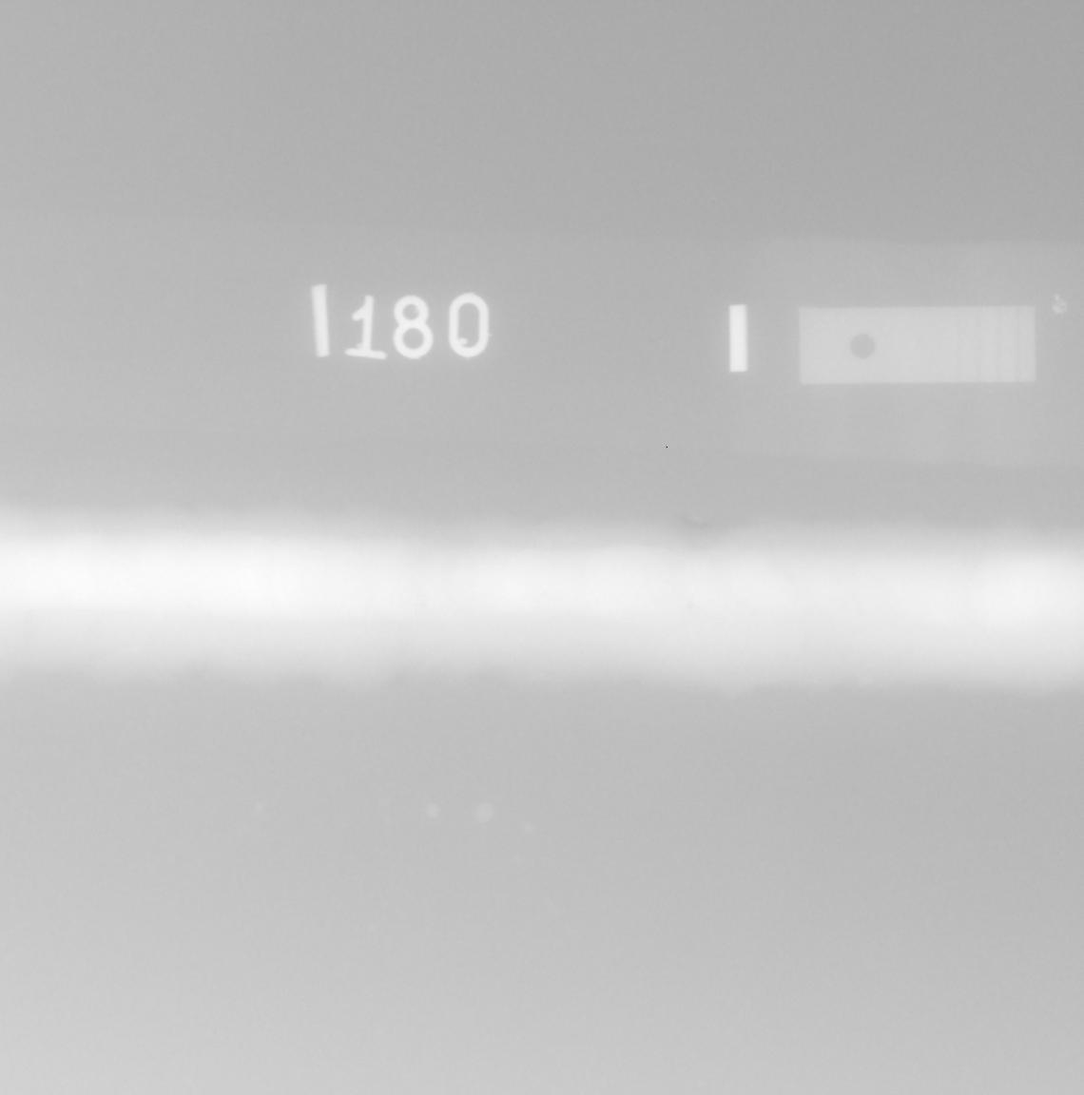Pore/Porosity: (687, 601, 696, 609), (542, 591, 547, 598), (421, 604, 426, 608)
Reference Standard 1: (799, 306, 1036, 385)
